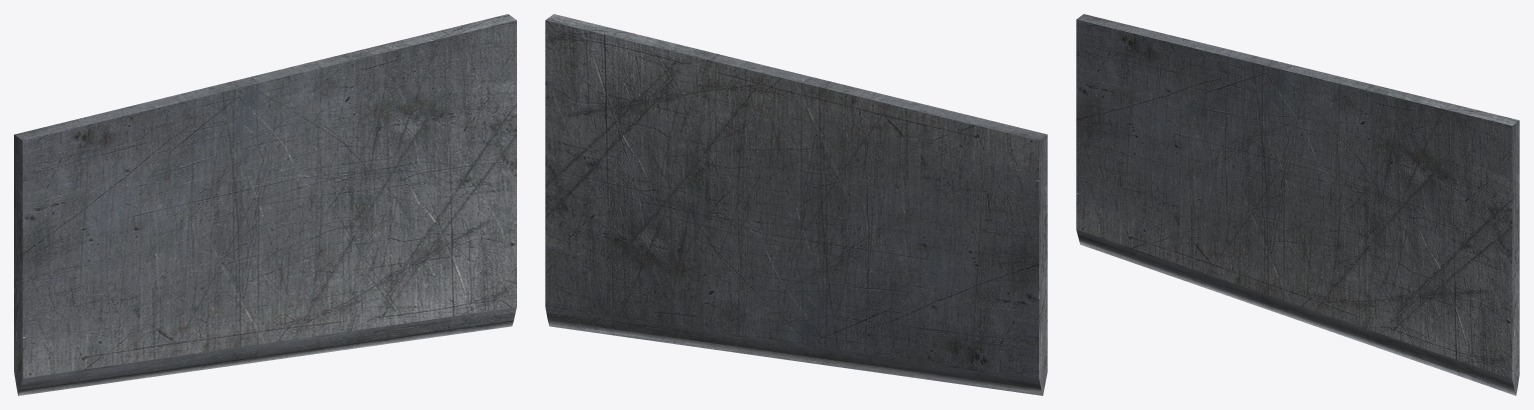
File: Guillotine.fbx
3 renders of one model, left to right at view 1: azimuth 30°, elevation 25°; view 2: azimuth 150°, elevation 25°; view 3: azimuth 330°, elevation 25°, orthographic. The views are drawn at different scales.
Visible parts, largest first — view 1: pCube1; view 2: pCube1; view 3: pCube1.
Part boxes in pixels (x1,y1,x2,y2): pCube1: (14, 14, 516, 395); pCube1: (545, 14, 1047, 395); pCube1: (1076, 14, 1519, 395).
Bounding box in the file's own units: 0.1 × 0.0598 × 0.003.
Materials: 1 (1 with a texture image).
